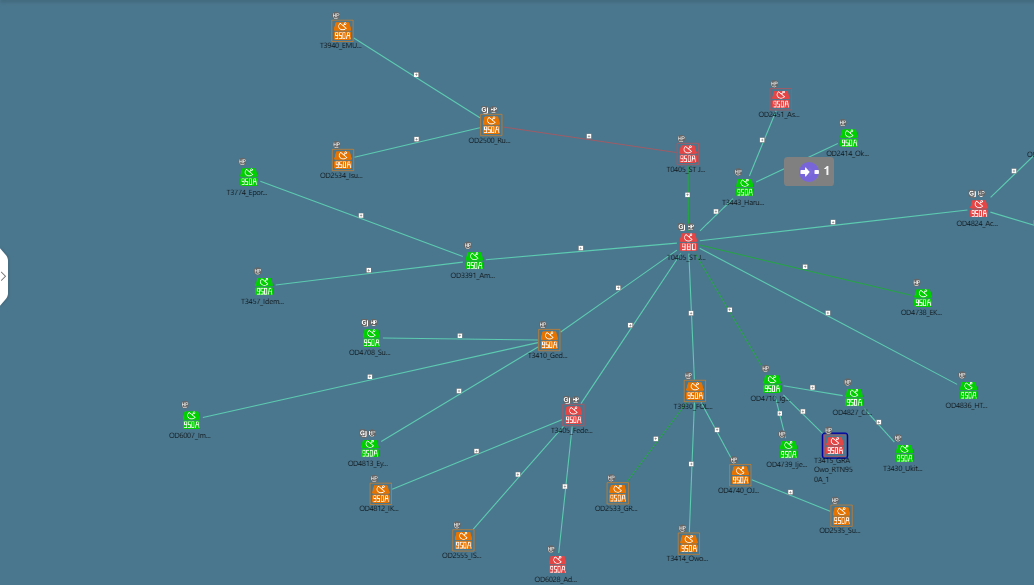Link_Blue: (712, 250, 952, 380), (213, 341, 525, 414), (262, 179, 467, 262), (578, 259, 687, 410), (378, 347, 528, 449), (391, 419, 553, 494), (352, 37, 477, 116), (559, 250, 669, 328), (475, 425, 559, 522), (701, 212, 919, 239), (275, 263, 422, 284), (352, 128, 465, 155), (753, 477, 827, 511), (488, 244, 627, 259), (746, 108, 774, 173), (385, 335, 535, 346), (559, 425, 577, 515), (992, 154, 1032, 191), (701, 409, 729, 454), (695, 199, 729, 236), (785, 402, 819, 436), (863, 406, 890, 438), (772, 401, 790, 443), (688, 331, 700, 377), (688, 406, 700, 451), (1002, 212, 1032, 229), (805, 141, 834, 158), (753, 166, 784, 181), (809, 386, 840, 394)
Link_Green: (717, 244, 910, 301), (695, 259, 761, 367), (624, 406, 682, 480)
Link_Red: (528, 128, 680, 158)
RTN_Green: (759, 373, 784, 398), (843, 386, 868, 410), (837, 128, 861, 152), (359, 438, 383, 462), (242, 166, 260, 191), (365, 328, 383, 352), (469, 250, 486, 275), (895, 444, 911, 469), (255, 276, 271, 301), (960, 380, 976, 404), (733, 179, 758, 194), (184, 412, 202, 428), (779, 444, 795, 462), (914, 289, 931, 305)
RTN_Orange: (481, 115, 506, 139), (372, 483, 396, 507), (604, 483, 628, 507), (540, 328, 564, 352), (333, 147, 357, 170), (675, 535, 698, 559), (682, 380, 704, 404), (333, 18, 357, 40), (733, 464, 751, 488), (830, 509, 855, 525), (456, 528, 472, 553)
RTN_Red: (546, 554, 570, 578), (824, 438, 848, 456), (682, 231, 700, 255), (565, 406, 582, 430), (675, 147, 700, 163), (772, 89, 788, 113), (973, 199, 990, 217)
